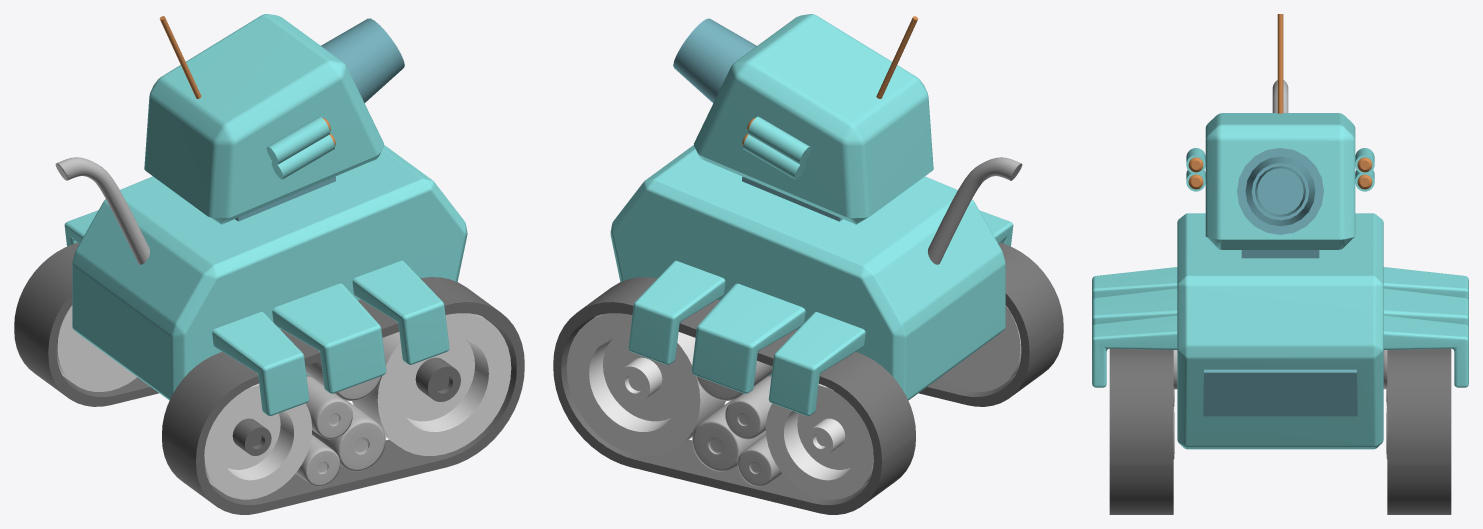
The model's file is blue_tank 1.fbx.
3 renders of one model, left to right at view 1: azimuth 30°, elevation 25°; view 2: azimuth 150°, elevation 25°; view 3: azimuth 270°, elevation 25°, orthographic. The views are drawn at different scales.
Parts seen in each view (by area): view 1: B_body, R_tire1, top, L_tire1, gun, side_gun; view 2: B_body, L_tire1, top, R_tire1, gun, side_gun; view 3: B_body, top, L_tire1, R_tire1, gun, side_gun, antenna.
Part boxes in pixels (bbox=[...]): B_body: bbox=[55, 145, 467, 416]; R_tire1: bbox=[162, 277, 524, 514]; top: bbox=[144, 14, 383, 224]; L_tire1: bbox=[14, 242, 158, 406]; gun: bbox=[321, 18, 404, 102]; side_gun: bbox=[266, 116, 335, 179]; B_body: bbox=[610, 145, 1022, 416]; L_tire1: bbox=[553, 277, 915, 514]; top: bbox=[694, 14, 933, 224]; R_tire1: bbox=[919, 242, 1063, 406]; gun: bbox=[673, 18, 756, 102]; side_gun: bbox=[742, 116, 811, 179]; B_body: bbox=[1092, 80, 1468, 449]; top: bbox=[1205, 113, 1355, 258]; L_tire1: bbox=[1383, 348, 1451, 514]; R_tire1: bbox=[1109, 348, 1177, 514]; gun: bbox=[1237, 148, 1323, 234]; side_gun: bbox=[1186, 148, 1374, 191]; antenna: bbox=[1277, 14, 1283, 113].
Size of the model in its own units: 7.63 by 8.34 by 7.03.
